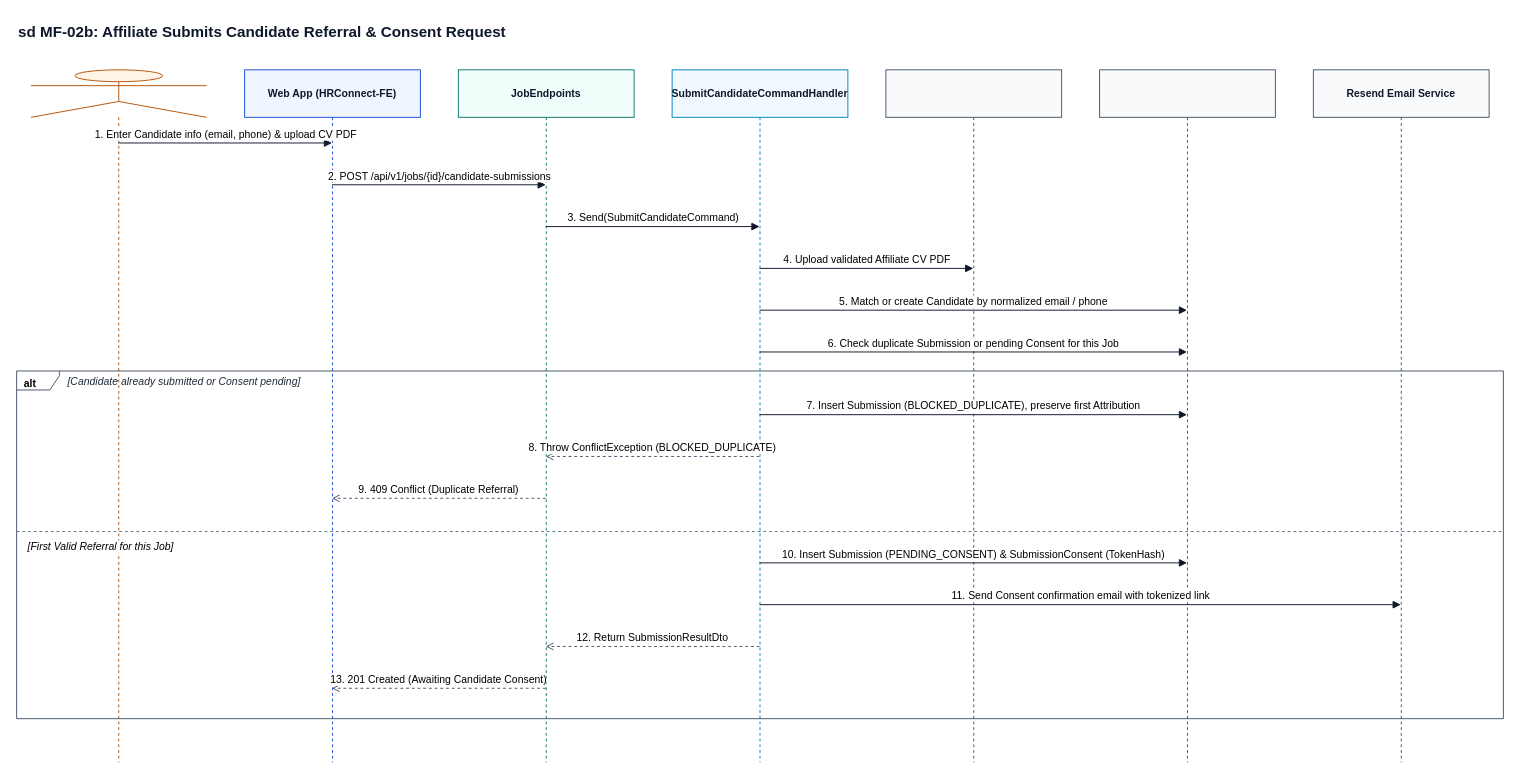
Image size: 1530x779. Some labels were removed from this diagram. Here are the shapes that lost their labels. From the top down, the box of each, then its label:
(30, 69, 207, 762): Affiliate
(885, 69, 1062, 762): Cloudflare R2 Storage
(1099, 69, 1275, 762): PostgreSQL
